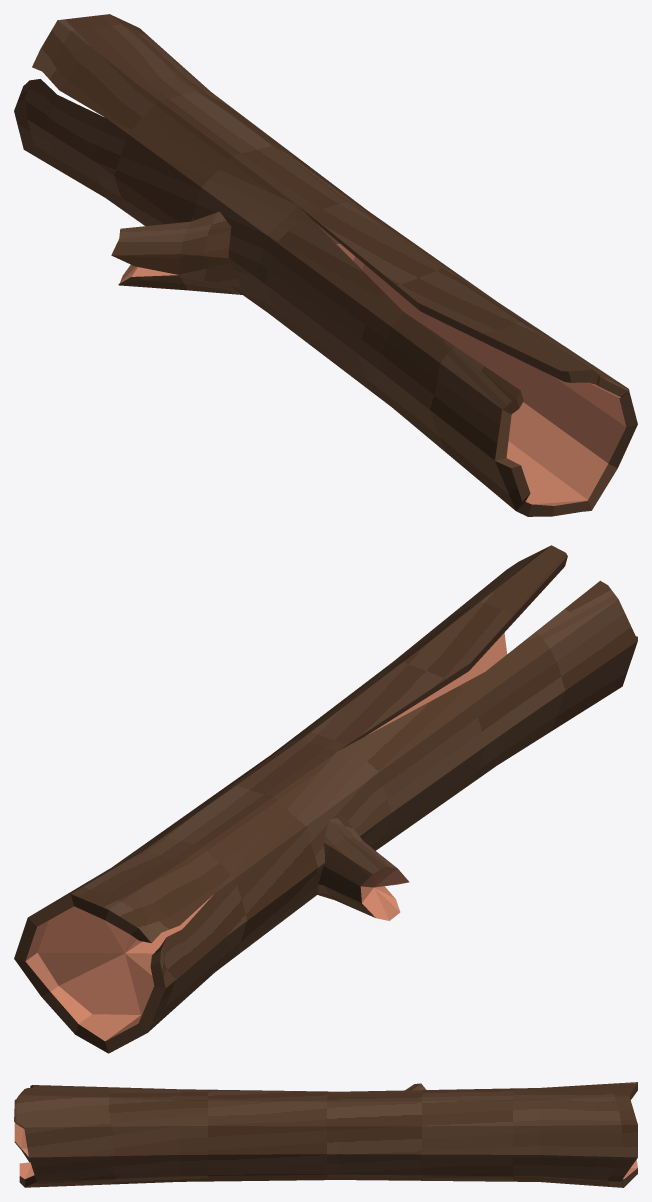
Rendered from Log_01.fbx.
3 views of the same model, one above another, from view 1: azimuth 30°, elevation 25°; view 2: azimuth 150°, elevation 25°; view 3: azimuth 270°, elevation 25° (orthographic). The views are drawn at different scales.
Visible parts, largest first — view 1: SM_Prop_Log_02; view 2: SM_Prop_Log_02; view 3: SM_Prop_Log_02.
Part boxes in pixels (x1,y1,x2,y2): SM_Prop_Log_02: [14, 14, 637, 516]; SM_Prop_Log_02: [14, 545, 637, 1053]; SM_Prop_Log_02: [14, 1082, 637, 1187].
Size of the model in its own units: 40.05 by 25.18 by 155.
Materials: 1 (1 with a texture image).
